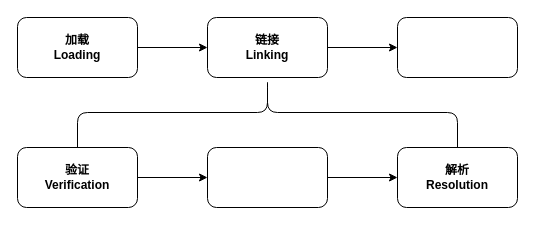
The diagram is 535 pixels wide and 225 high, and some of its shapes have lost their labels. Each missing label, with the centre of its shape:
准备 Preparation: point (267, 177)
初始化 Initialization: point (457, 47)
